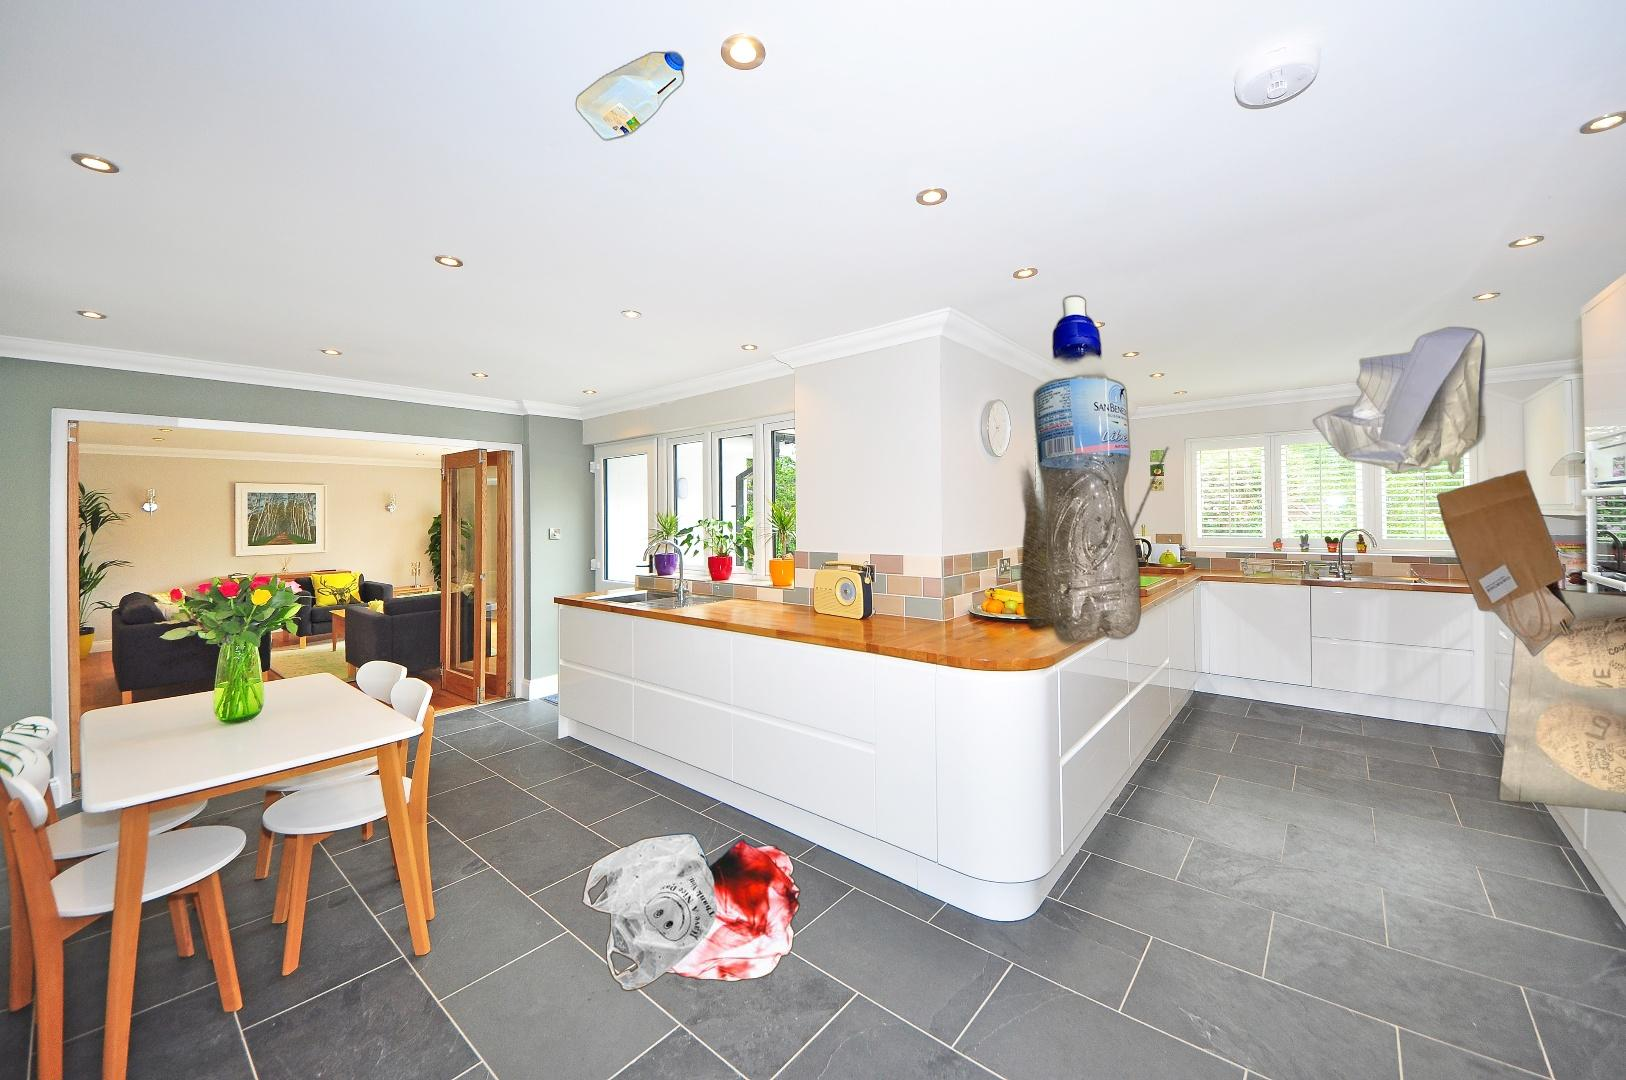battery: (1602, 714, 1626, 863)
paper: (1495, 583, 1626, 828), (1309, 324, 1490, 477)
paper-bag: (1434, 466, 1578, 659)
plastic-bag: (581, 830, 803, 993)
plastic-bottles: (918, 290, 1172, 651), (571, 46, 689, 145)
